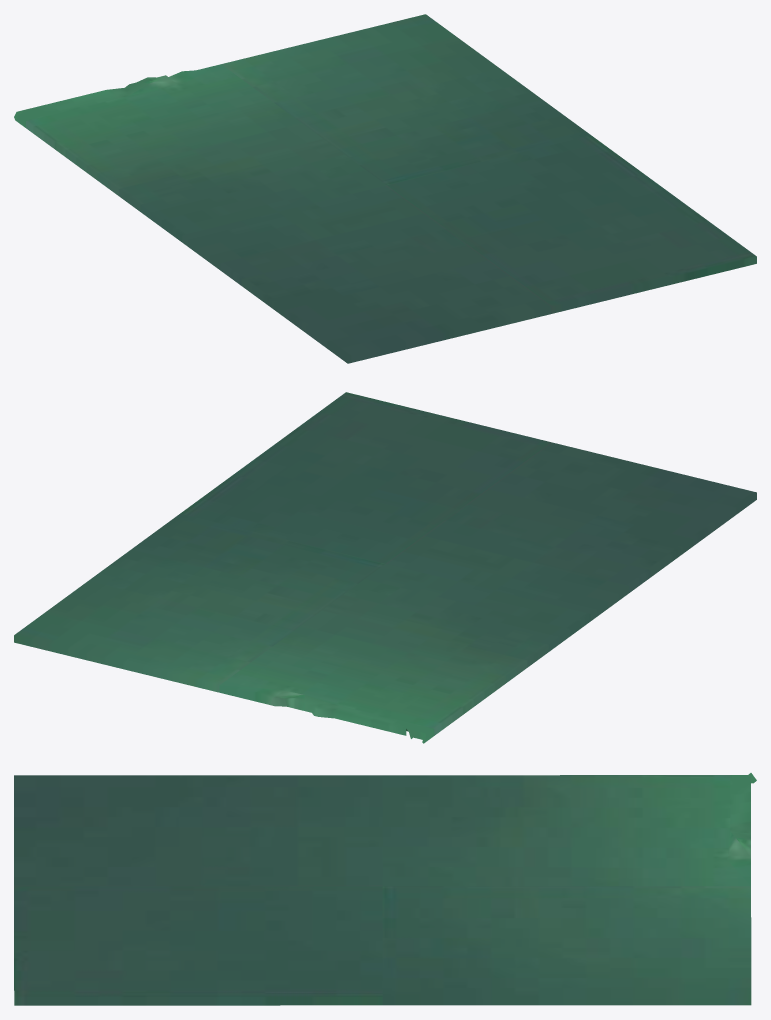
The picture shows the model from 3 angles, top to bottom: view 1: azimuth 30°, elevation 25°; view 2: azimuth 150°, elevation 25°; view 3: azimuth 270°, elevation 25°; orthographic projection. The views are drawn at different scales.
Parts seen in each view (by area): view 1: 30436272704370635533_0; view 2: 30436272704370635533_0; view 3: 30436272704370635533_0.
Part boxes in pixels (box(x1,y1,x2,y2)): 30436272704370635533_0: box(14, 14, 756, 363); 30436272704370635533_0: box(14, 392, 756, 743); 30436272704370635533_0: box(14, 773, 756, 1005).
Size of the model in its own units: 27.32 by 0.7815 by 38.56.
1 material, 1 textured.
